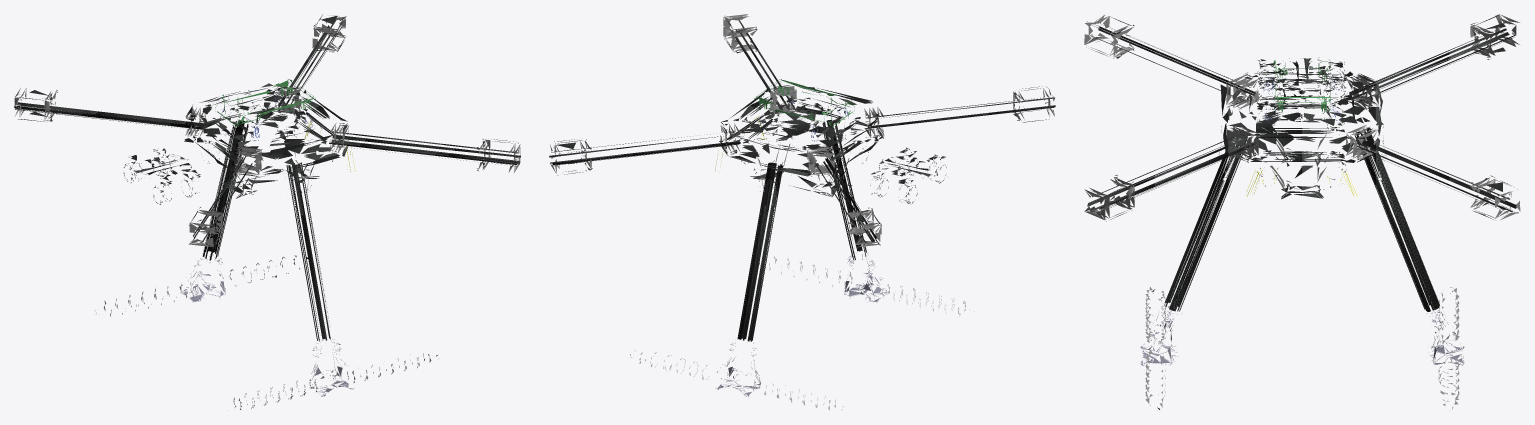
File: NXP-HGD-CF_web.glb
3 views of the same model, side by side, from view 1: azimuth 30°, elevation 25°; view 2: azimuth 150°, elevation 25°; view 3: azimuth 270°, elevation 25° (orthographic). The views are drawn at different scales.
Parts seen in each view (by area): view 1: CarbonFiber, Metal, LandingPlastic, FMUK66, LandingFoam; view 2: CarbonFiber, Metal, LandingPlastic, LandingFoam, FMUK66; view 3: CarbonFiber, Metal, LandingPlastic, LandingFoam, FMUK66, RailsRubber.
Part boxes in pixels (bbox=[...]): CarbonFiber: bbox=[14, 14, 520, 341]; Metal: bbox=[14, 15, 520, 247]; LandingPlastic: bbox=[180, 117, 353, 396]; FMUK66: bbox=[215, 79, 315, 126]; LandingFoam: bbox=[103, 255, 431, 409]; CarbonFiber: bbox=[549, 17, 1055, 409]; Metal: bbox=[550, 14, 1054, 247]; LandingPlastic: bbox=[715, 118, 889, 396]; LandingFoam: bbox=[639, 256, 966, 410]; FMUK66: bbox=[754, 79, 854, 127]; CarbonFiber: bbox=[1086, 15, 1518, 408]; Metal: bbox=[1084, 14, 1520, 219]; LandingPlastic: bbox=[1140, 126, 1464, 365]; LandingFoam: bbox=[1145, 287, 1459, 407]; FMUK66: bbox=[1273, 59, 1330, 113]; RailsRubber: bbox=[1257, 64, 1347, 179].
Size of the model in its own units: 0.3944 by 0.279 by 0.3948.
9 materials, 1 textured.
